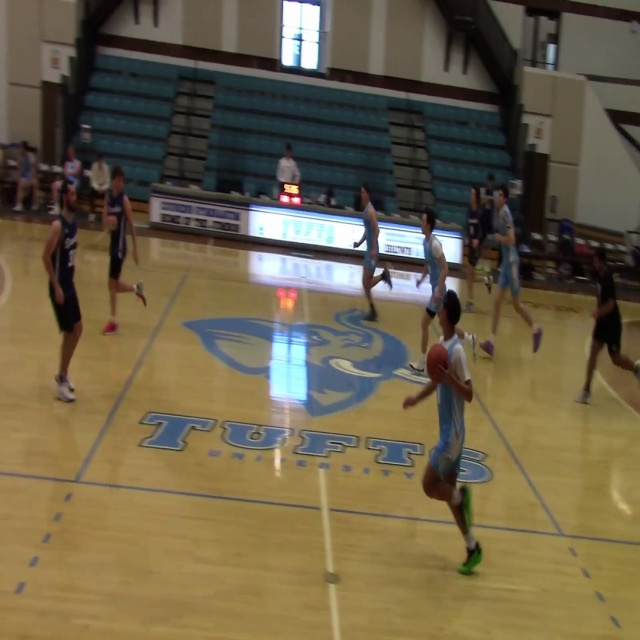Basketball: (425, 343, 450, 384)
